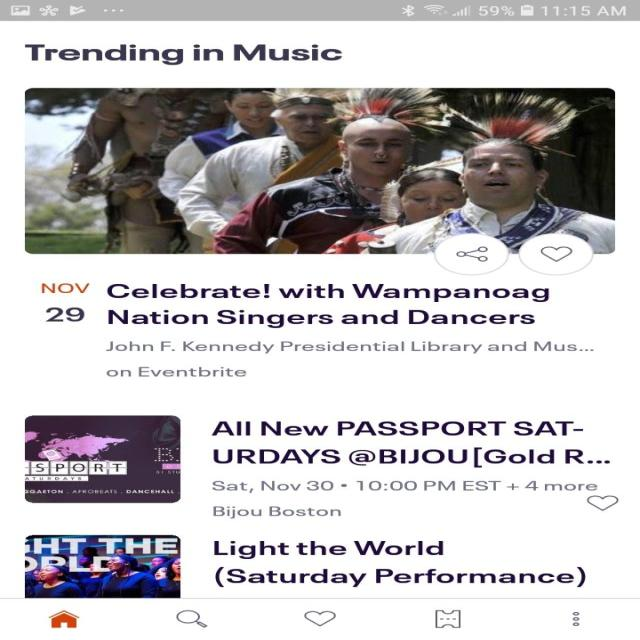Icon: (517, 233, 593, 275), (433, 233, 508, 275), (175, 610, 208, 628), (48, 610, 80, 628), (586, 495, 618, 511), (303, 611, 336, 626), (434, 609, 460, 628), (570, 611, 578, 626)
Image: (24, 88, 614, 254), (23, 415, 180, 502), (24, 535, 180, 598)
Text: (106, 283, 548, 328), (211, 421, 609, 468), (105, 341, 594, 377), (213, 541, 585, 587), (212, 481, 596, 518), (24, 44, 342, 66), (44, 307, 84, 322), (41, 282, 90, 293)
